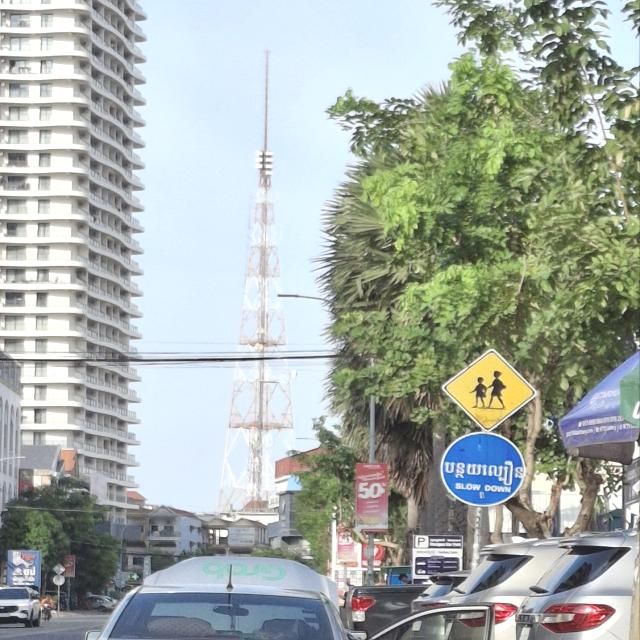Yolov11kh: (439, 454, 531, 490)
